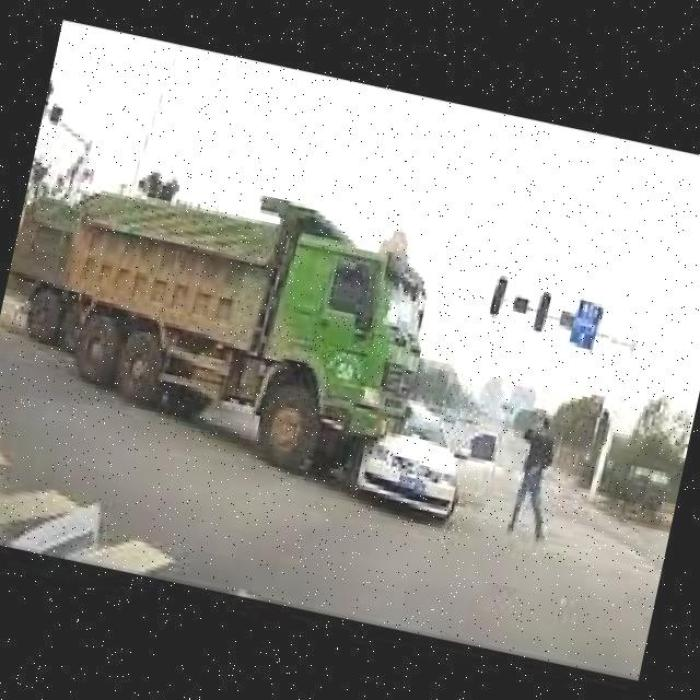Accident: (309, 301, 520, 548)
